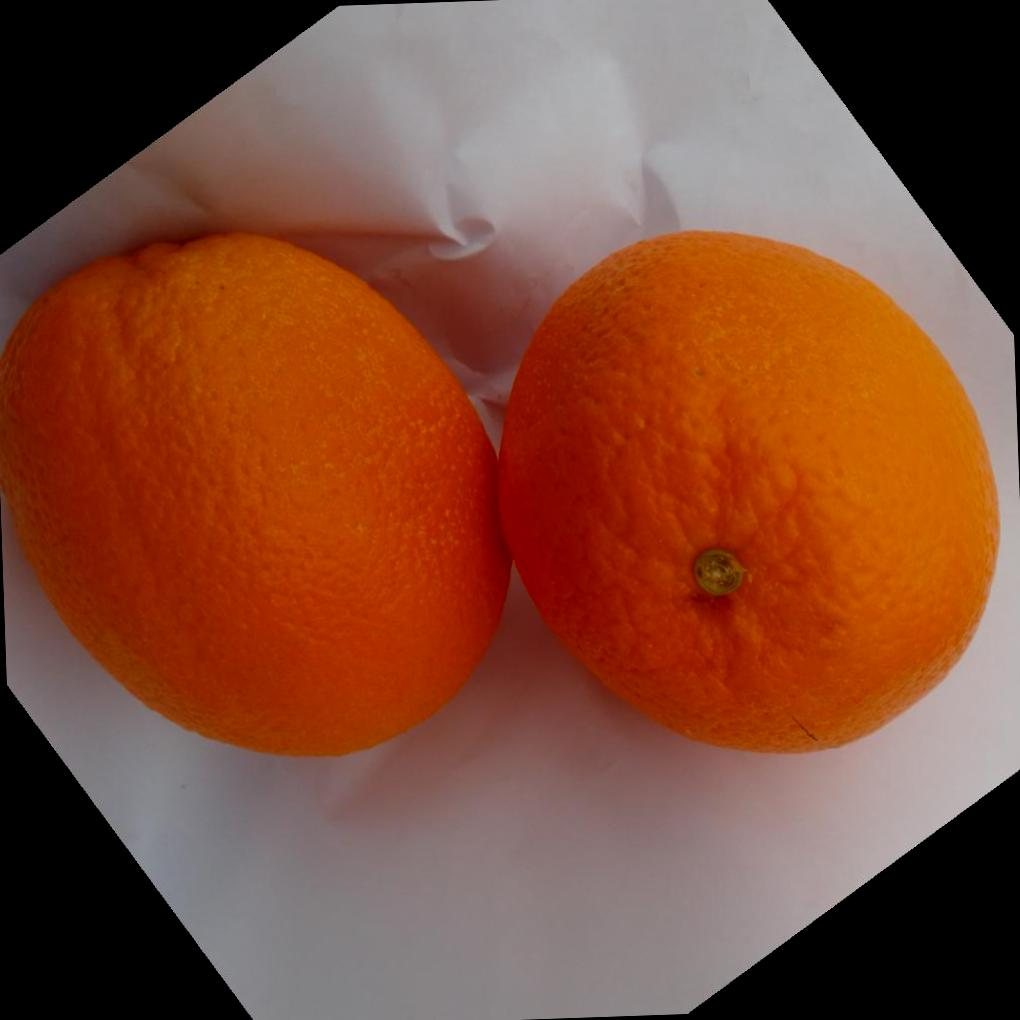FreshGuava: (0, 228, 999, 760)
